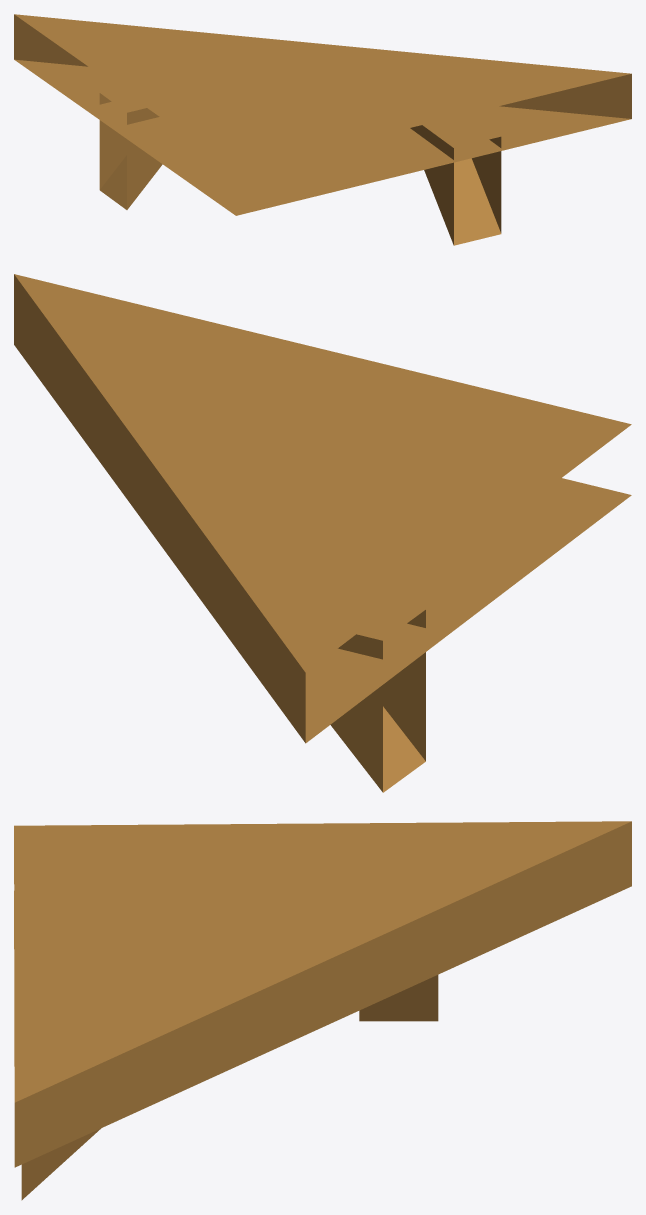
Rendered from shelf_corner.glb.
The picture shows the model from 3 angles, top to bottom: view 1: azimuth 30°, elevation 25°; view 2: azimuth 150°, elevation 25°; view 3: azimuth 270°, elevation 25°; orthographic projection. The views are drawn at different scales.
Visible parts, largest first — view 1: shelf_corner; view 2: shelf_corner; view 3: shelf_corner.
Boxes of the visible parts, x1,y1,x2,y2 form: shelf_corner: (14, 14, 631, 245); shelf_corner: (14, 274, 631, 792); shelf_corner: (14, 821, 631, 1200).
Bounding box in the file's own units: 1.11 × 0.3438 × 1.03.
